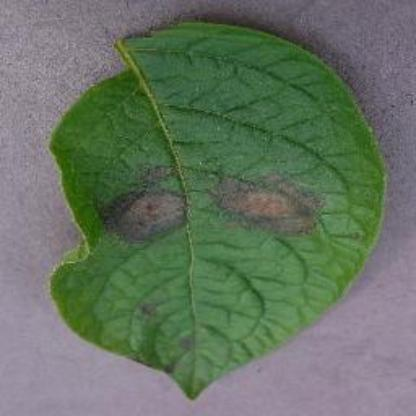Late-Blight: (24, 12, 406, 398)
